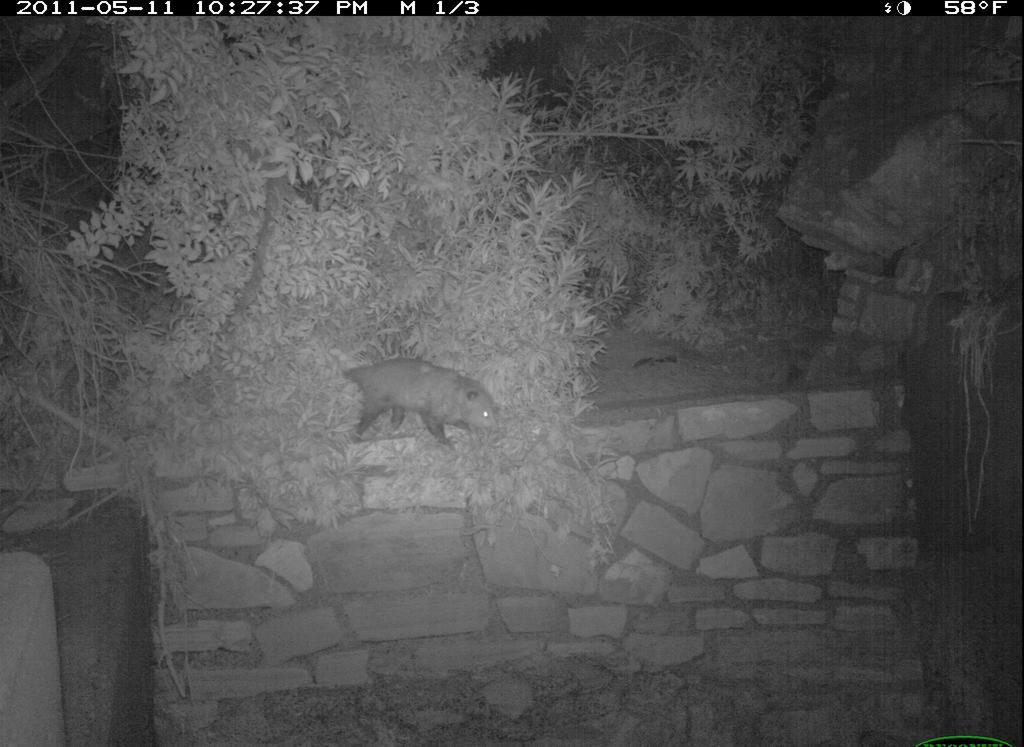opossum: (338, 349, 510, 456)
